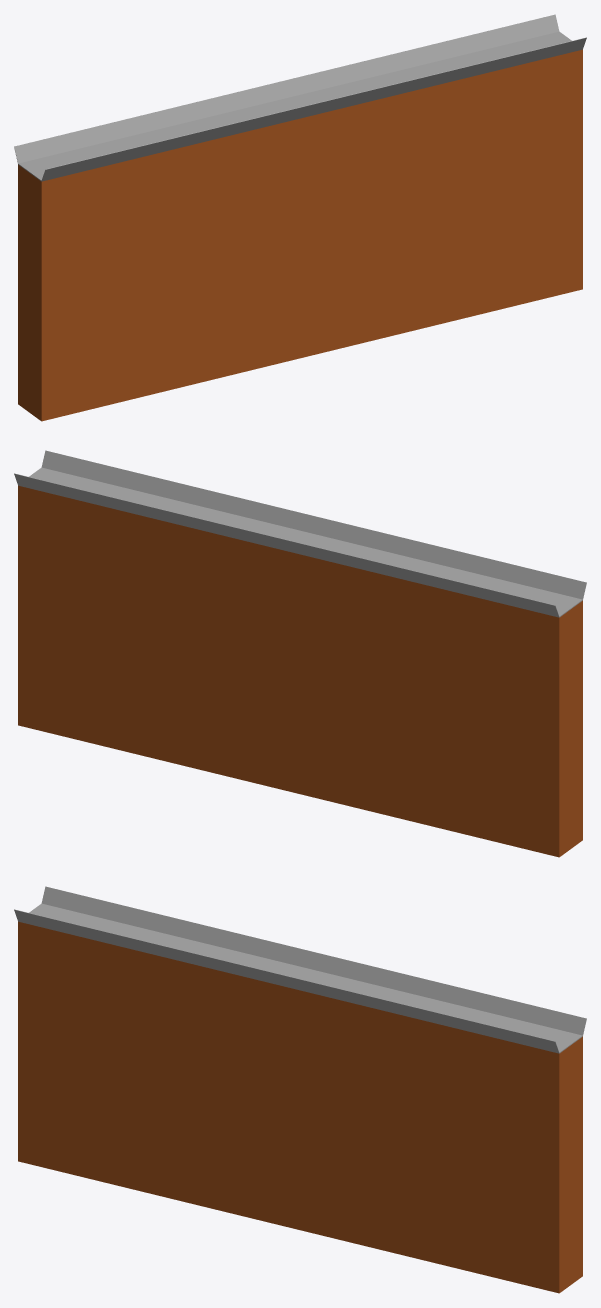
Rendered from uchannel_place.dae.
3 views of the same model, one above another, from view 1: azimuth 30°, elevation 25°; view 2: azimuth 150°, elevation 25°; view 3: azimuth 330°, elevation 25° (orthographic).
Visible parts, largest first — view 1: uchannel_place; view 2: uchannel_place; view 3: uchannel_place.
Part boxes in pixels (<box>): uchannel_place: <box>14,14,586,421</box>; uchannel_place: <box>14,450,586,857</box>; uchannel_place: <box>14,886,586,1293</box>.
Bounding box in the file's own units: 4 × 0.4054 × 1.8.
